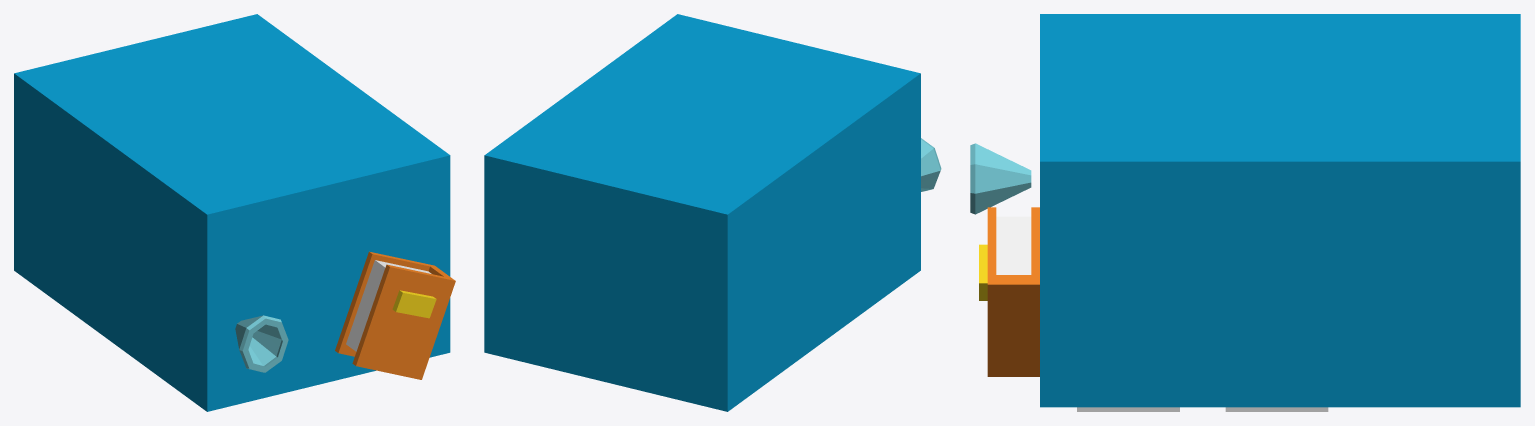
File: tinker.obj
3 renders of one model, left to right at view 1: azimuth 30°, elevation 25°; view 2: azimuth 150°, elevation 25°; view 3: azimuth 270°, elevation 25°, orthographic. The views are drawn at different scales.
Parts seen in each view (by area): view 1: group_0_40919, group_0_16089887, group_0_7720667, group_0_16448250, group_0_16768282; view 2: group_0_40919, group_0_7720667; view 3: group_0_40919, group_0_16089887, group_0_16448250, group_0_7720667, group_0_16768282.
Boxes of the visible parts, left/top/right/bottom form: group_0_40919: left=14, top=14, right=450, bottom=411; group_0_16089887: left=335, top=251, right=455, bottom=379; group_0_7720667: left=235, top=315, right=288, bottom=372; group_0_16448250: left=346, top=260, right=431, bottom=351; group_0_16768282: left=392, top=290, right=436, bottom=318; group_0_40919: left=484, top=14, right=920, bottom=411; group_0_7720667: left=921, top=138, right=941, bottom=191; group_0_40919: left=1040, top=14, right=1520, bottom=407; group_0_16089887: left=987, top=207, right=1039, bottom=376; group_0_16448250: left=996, top=216, right=1328, bottom=411; group_0_7720667: left=970, top=143, right=1031, bottom=214; group_0_16768282: left=979, top=244, right=987, bottom=300.
Bounding box in the file's own units: 40 × 35 × 62.99.
